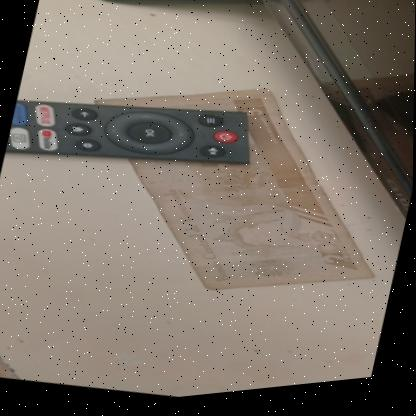five-back-vef: (54, 46, 413, 340)
